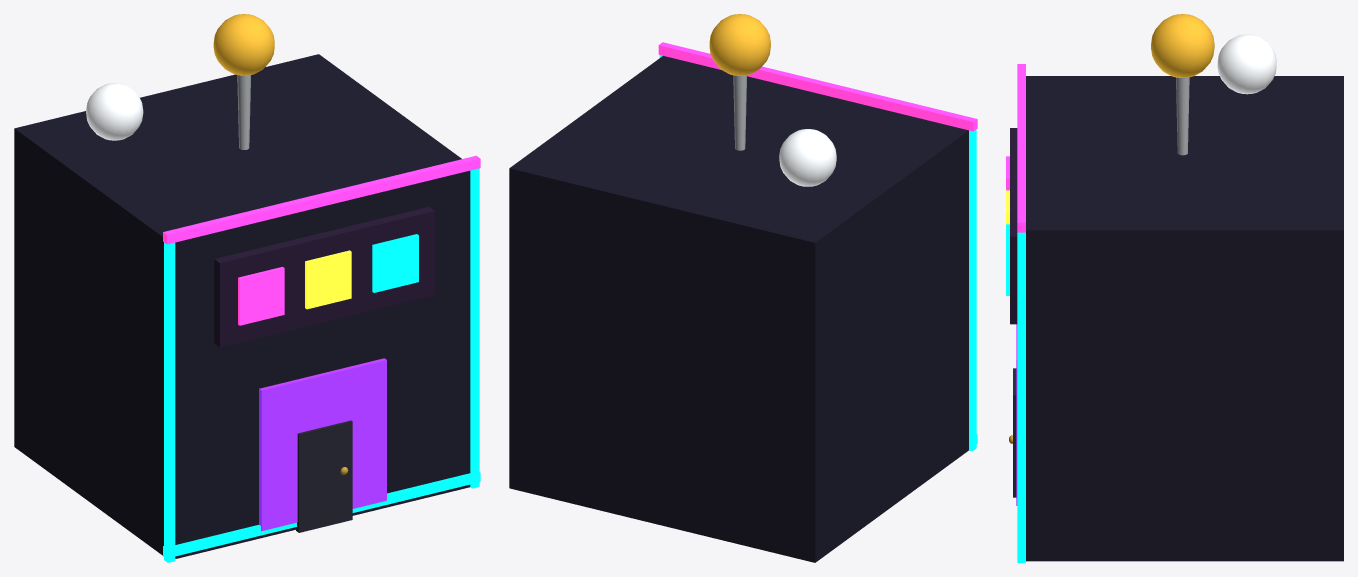
Rendered from biz_ktv.glb.
3 views of the same model, side by side, from view 1: azimuth 30°, elevation 25°; view 2: azimuth 150°, elevation 25°; view 3: azimuth 270°, elevation 25° (orthographic). The views are drawn at different scales.
Size of the model in its own units: 3.5 by 4.8 by 3.14.
